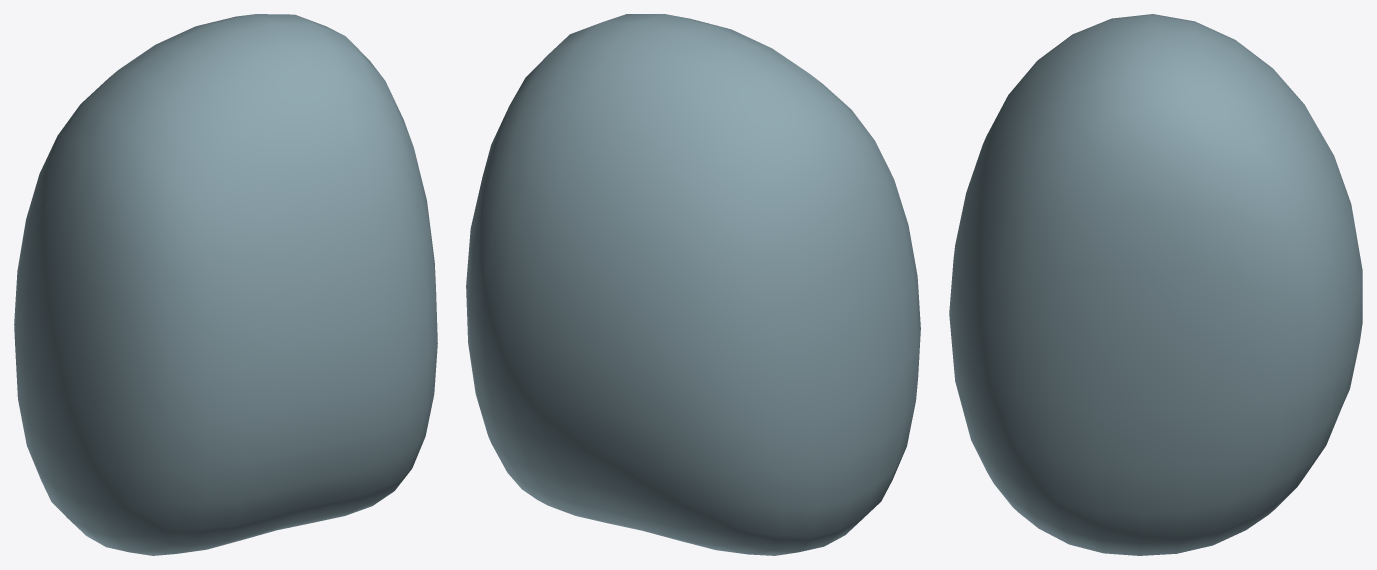
Rendered from Rock_A_04.fbx.
The picture shows the model from 3 angles, left to right: view 1: azimuth 30°, elevation 25°; view 2: azimuth 150°, elevation 25°; view 3: azimuth 270°, elevation 25°; orthographic projection.
Visible parts, largest first — view 1: Rock_A_04_LOD0; view 2: Rock_A_04_LOD0; view 3: Rock_A_04_LOD0.
Boxes of the visible parts, x1=… form: Rock_A_04_LOD0: x1=14, y1=14, x2=437, y2=555; Rock_A_04_LOD0: x1=466, y1=14, x2=920, y2=555; Rock_A_04_LOD0: x1=949, y1=14, x2=1362, y2=555.
Size of what is drawn, in the model's own units: 289 by 359 by 281.
